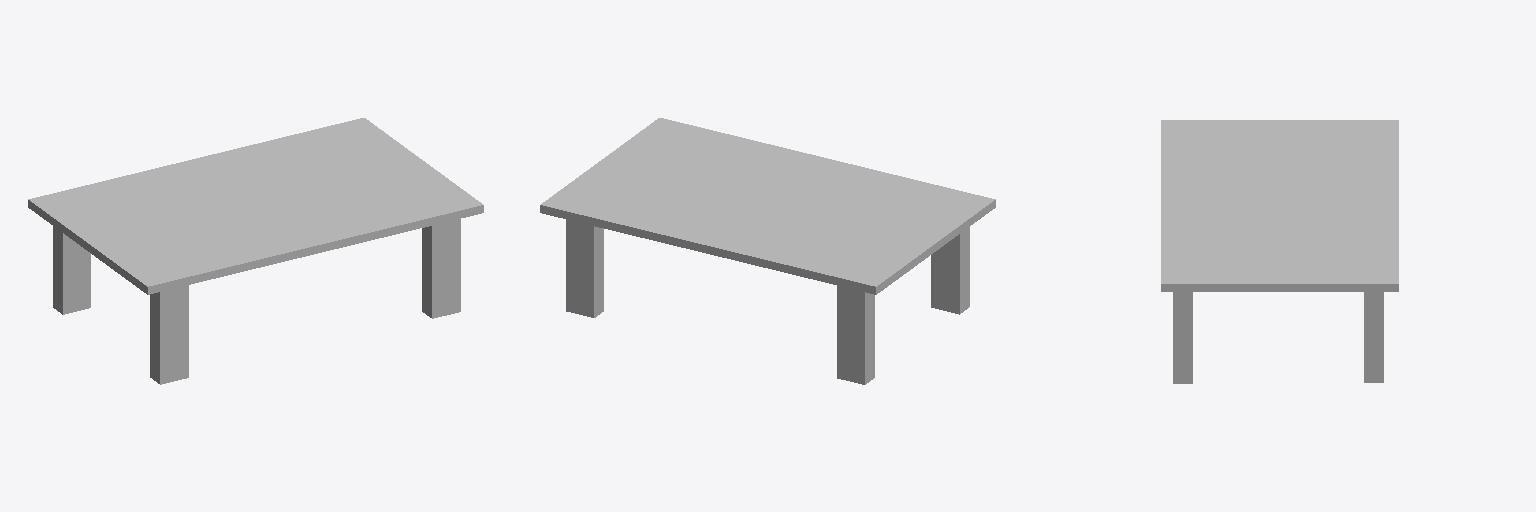
The model's file is table.obj.
3 renders of one model, left to right at view 1: azimuth 30°, elevation 25°; view 2: azimuth 150°, elevation 25°; view 3: azimuth 270°, elevation 25°, orthographic.
Parts seen in each view (by area): view 1: Cube.004_Cube.005, Cube.001_Cube.002, Cube.003_Cube.004, Cube.002_Cube.003; view 2: Cube.004_Cube.005, Cube.002_Cube.003, Cube_Cube.001, Cube.003_Cube.004; view 3: Cube.004_Cube.005, Cube.001_Cube.002, Cube_Cube.001.
Part boxes in pixels (x1,y1,x2,y2): Cube.004_Cube.005: (28, 118, 483, 294); Cube.001_Cube.002: (422, 219, 460, 318); Cube.003_Cube.004: (150, 285, 188, 384); Cube.002_Cube.003: (53, 226, 90, 314); Cube.004_Cube.005: (540, 118, 995, 294); Cube.002_Cube.003: (837, 286, 874, 384); Cube_Cube.001: (566, 219, 603, 317); Cube.003_Cube.004: (931, 227, 969, 314); Cube.004_Cube.005: (1161, 120, 1398, 291); Cube.001_Cube.002: (1173, 292, 1192, 383); Cube_Cube.001: (1364, 292, 1383, 382).
Size of the model in its own units: 8.06 by 2.47 by 4.96.